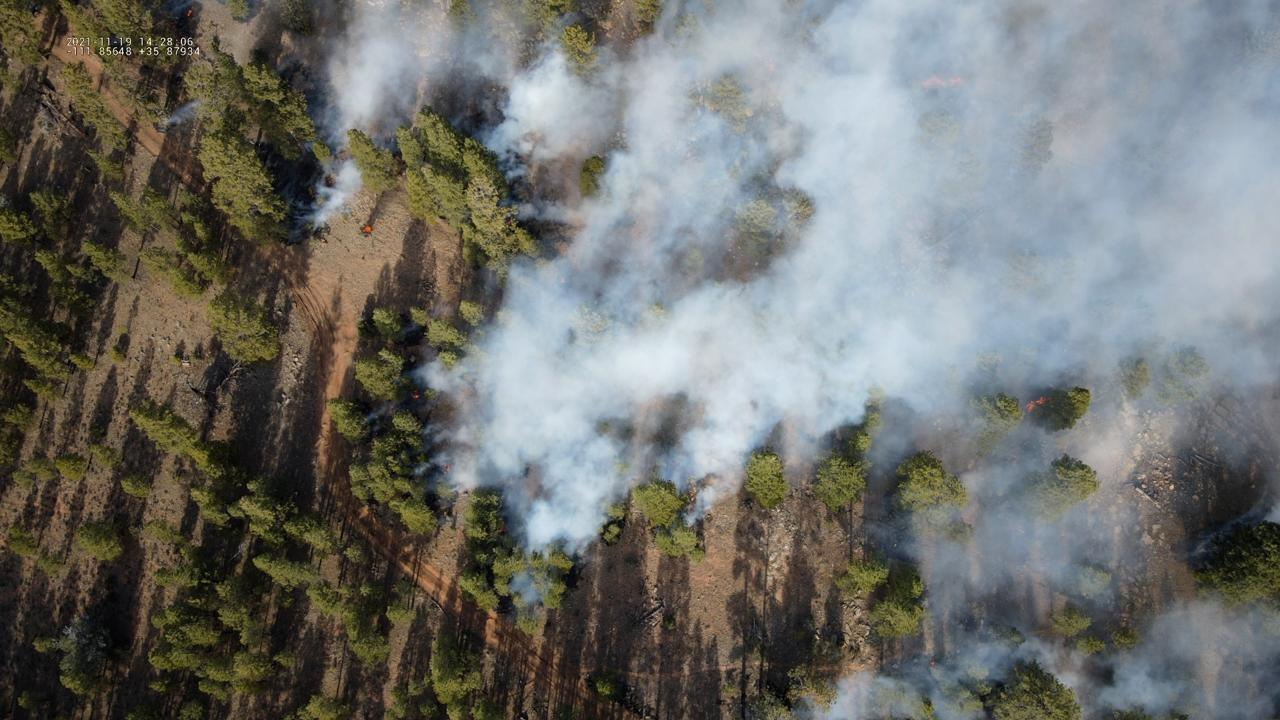fire: (920, 75, 967, 89), (1023, 399, 1047, 415), (363, 224, 373, 234), (186, 9, 195, 18), (412, 393, 418, 399)
smoke: (273, 0, 1280, 720), (159, 99, 203, 130)
